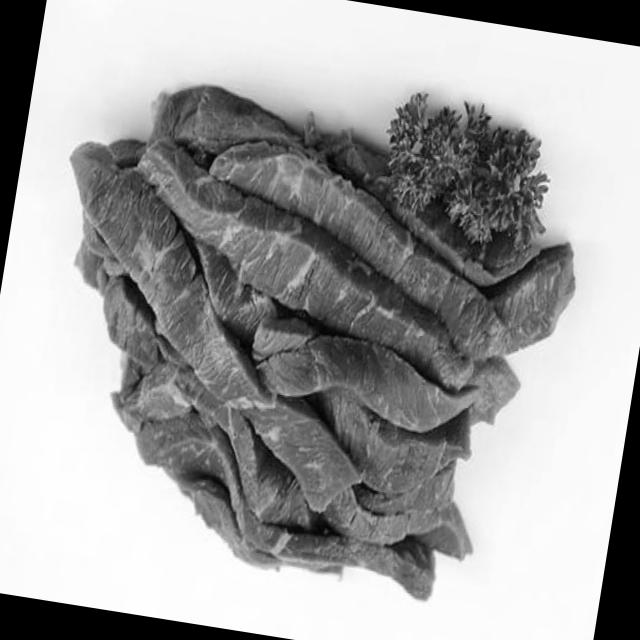meat pieces: (7, 170, 580, 620)
